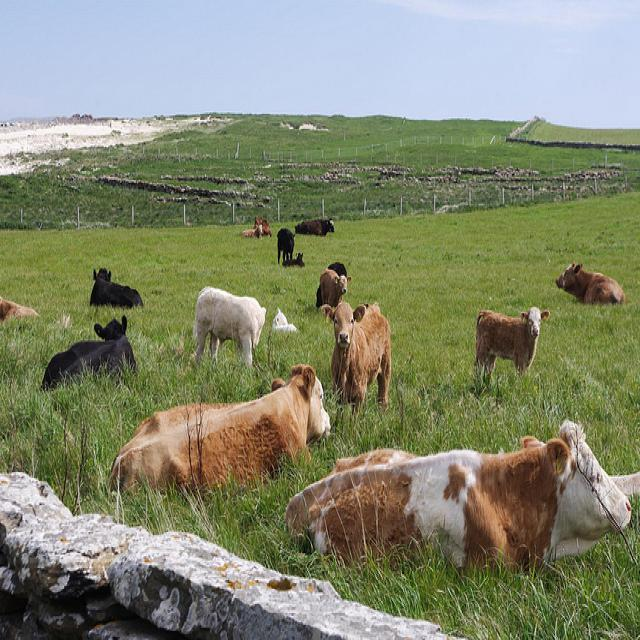cow: (284, 418, 639, 570), (7, 207, 346, 334), (105, 361, 329, 499), (320, 295, 393, 409), (39, 313, 138, 393), (472, 304, 549, 387), (190, 282, 265, 366), (555, 258, 624, 306), (89, 266, 142, 305), (318, 266, 350, 305), (276, 225, 293, 261), (292, 219, 321, 234), (313, 216, 333, 234), (254, 222, 270, 237)
